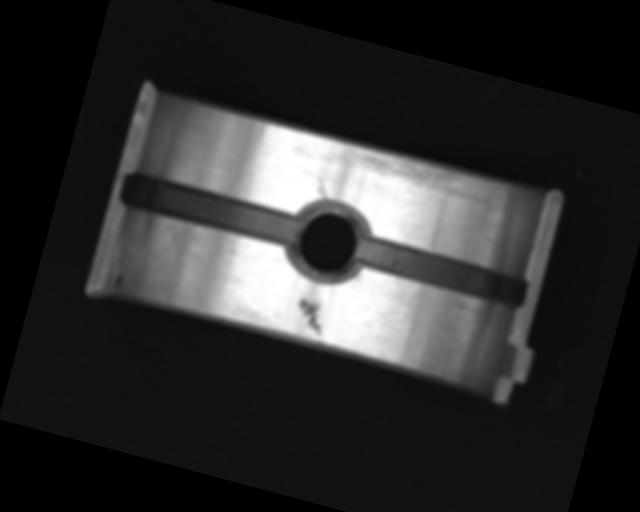blot: (111, 271, 125, 291)
bruise: (290, 293, 332, 337)
gap: (119, 169, 304, 250), (353, 232, 531, 310)
hole: (282, 194, 377, 288)
nick: (312, 176, 333, 202)
scratch: (345, 138, 507, 212)
